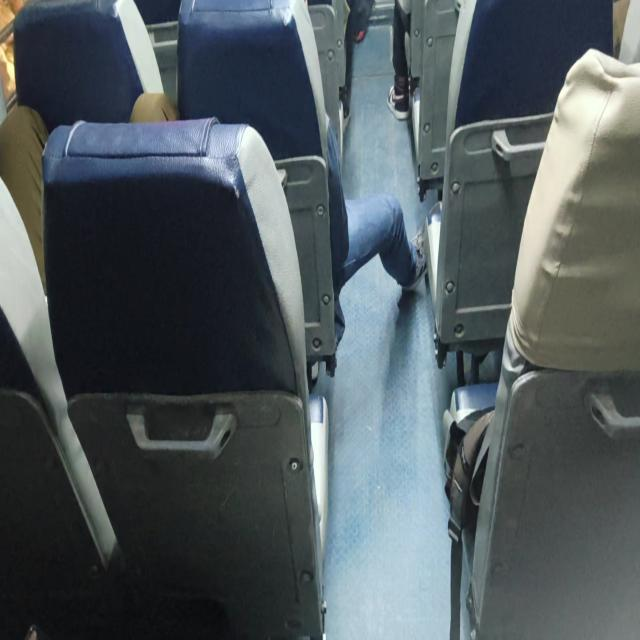person: (130, 0, 428, 356), (0, 0, 177, 296), (325, 118, 428, 294), (387, 0, 460, 121), (340, 0, 376, 129), (386, 0, 421, 121)
